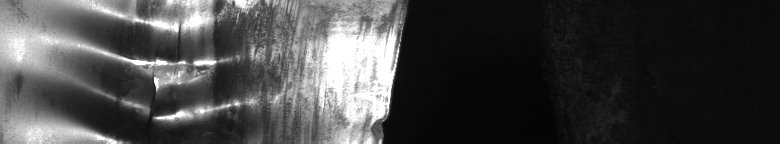ke: (18, 4, 372, 136)
